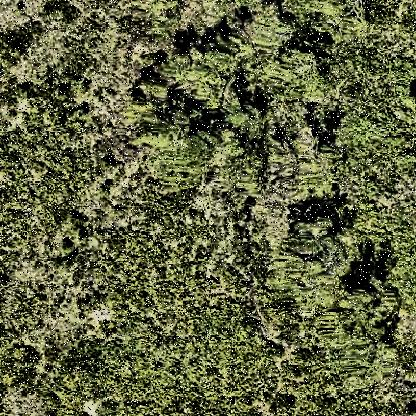tree-top: (274, 206, 342, 282), (145, 119, 218, 189), (166, 43, 241, 111), (336, 293, 408, 355), (234, 99, 274, 140)
